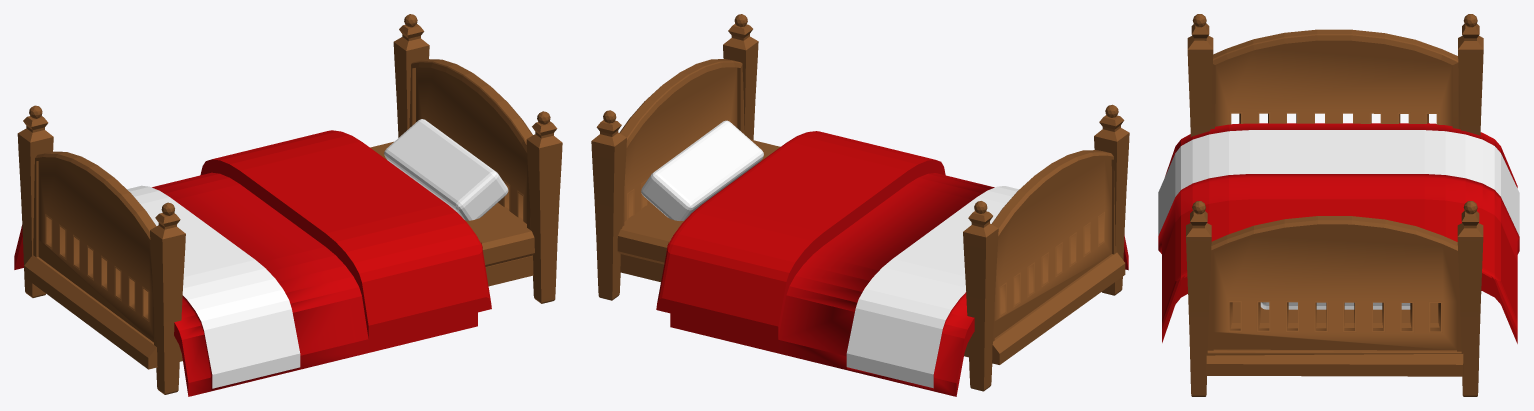
The model's file is Wooden Bed.fbx.
3 views of the same model, side by side, from view 1: azimuth 30°, elevation 25°; view 2: azimuth 150°, elevation 25°; view 3: azimuth 270°, elevation 25° (orthographic). The views are drawn at different scales.
Parts seen in each view (by area): view 1: Cube.001; view 2: Cube.001; view 3: Cube.001.
Boxes of the visible parts, box(x1,y1,x2,y2) form: Cube.001: box(14, 14, 562, 396); Cube.001: box(591, 14, 1129, 396); Cube.001: box(1158, 14, 1519, 396).
Bounding box in the file's own units: 292 × 129 × 219.
